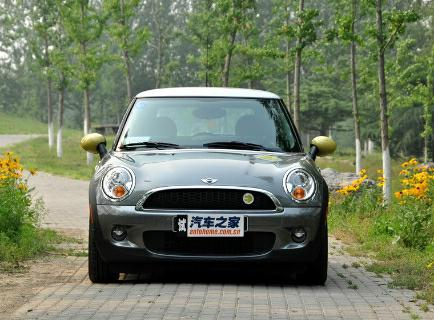MINI: (75, 83, 340, 291)
